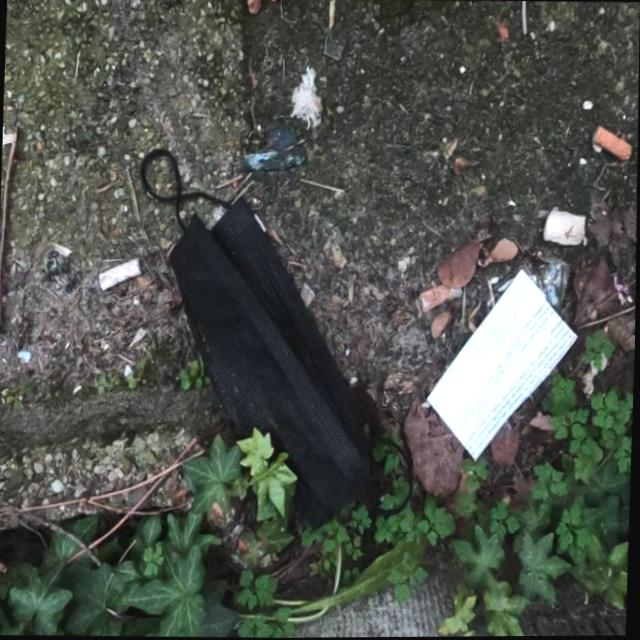Mask: (124, 140, 426, 537)
Paper: (422, 260, 582, 469)
